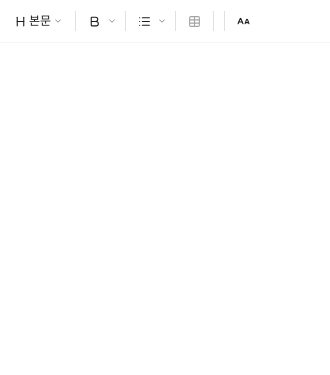
Scenario: TipTapMenuBar Confluence식 메뉴 › B 메뉴에 단축키 칩이 표시된다
What coordinates should you click on to do the following:
click the button with test id "editor-menubar-format-source"
I would click on:
 (112, 21)
Its box is [105,10,119,32].
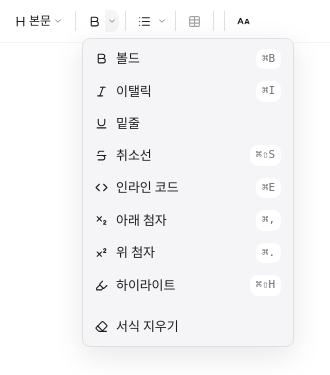
Now the text "⌘B" is shown, box [256,48,281,69]
Now the text "⌘E" is shown, box [256,178,281,198]
Now the text "⌘⇧H" is shown, box [250,275,281,296]
